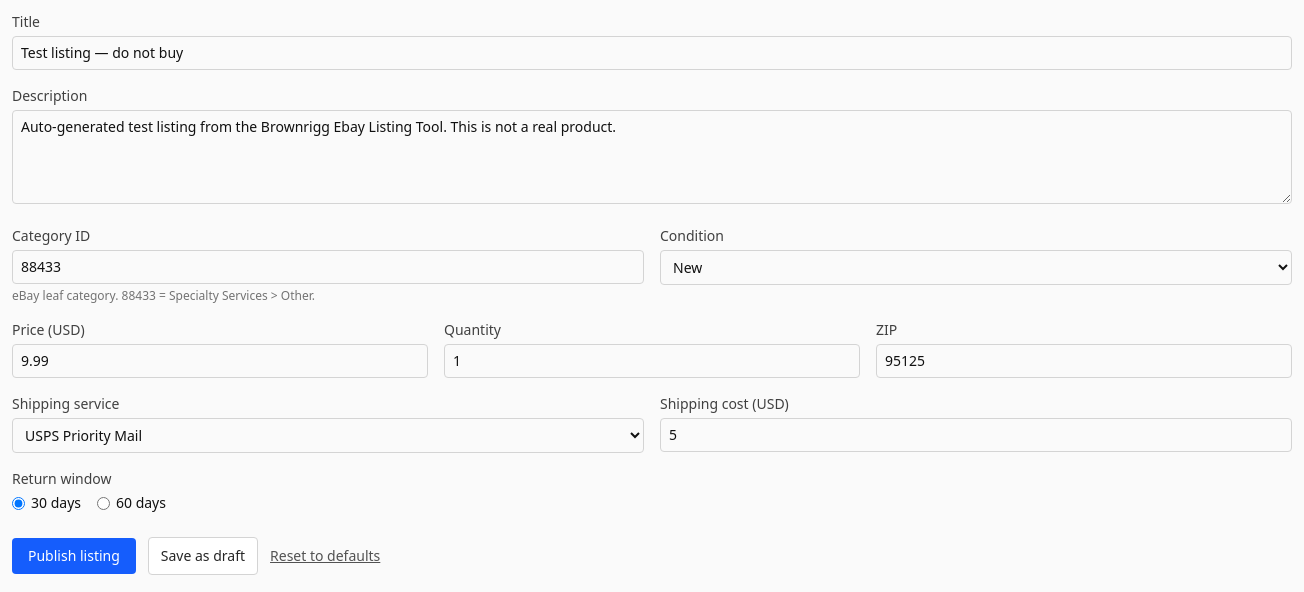
ListingForm › resets the form when "Reset to defaults" is clicked
The image size is (1304, 592).
Replace the text in the field labelled "Title" with "Edited title". click: (652, 53)
box: [12,36,1292,70]
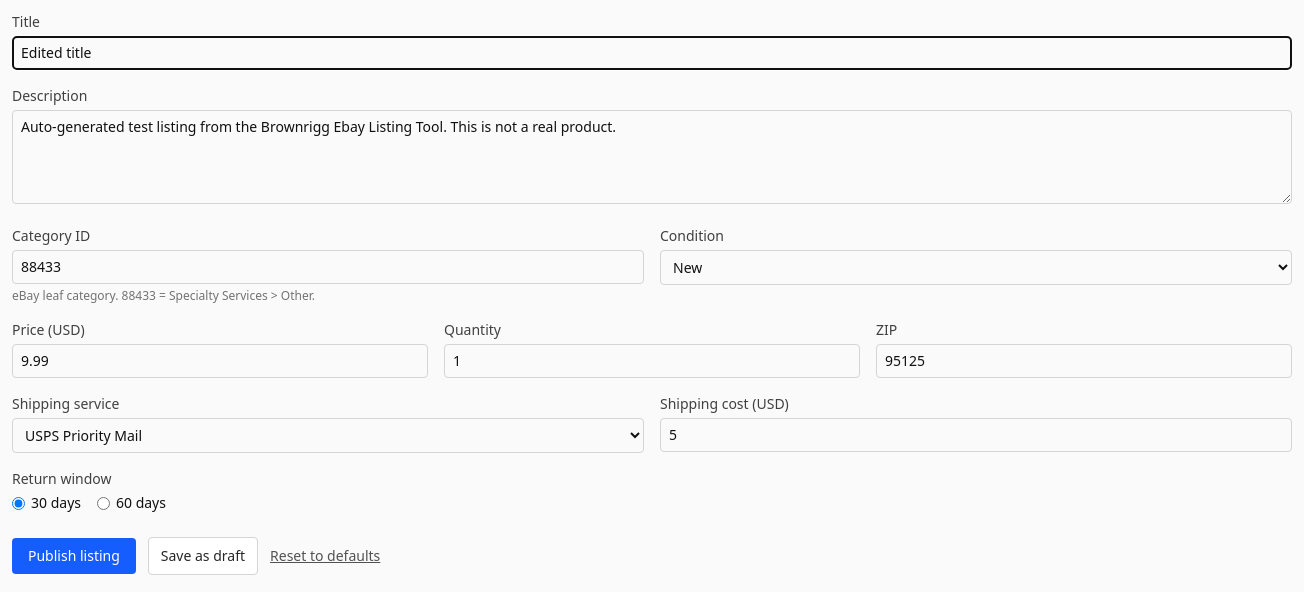
Click the button "Reset to defaults". click: (325, 556)
box: [270,546,380,566]
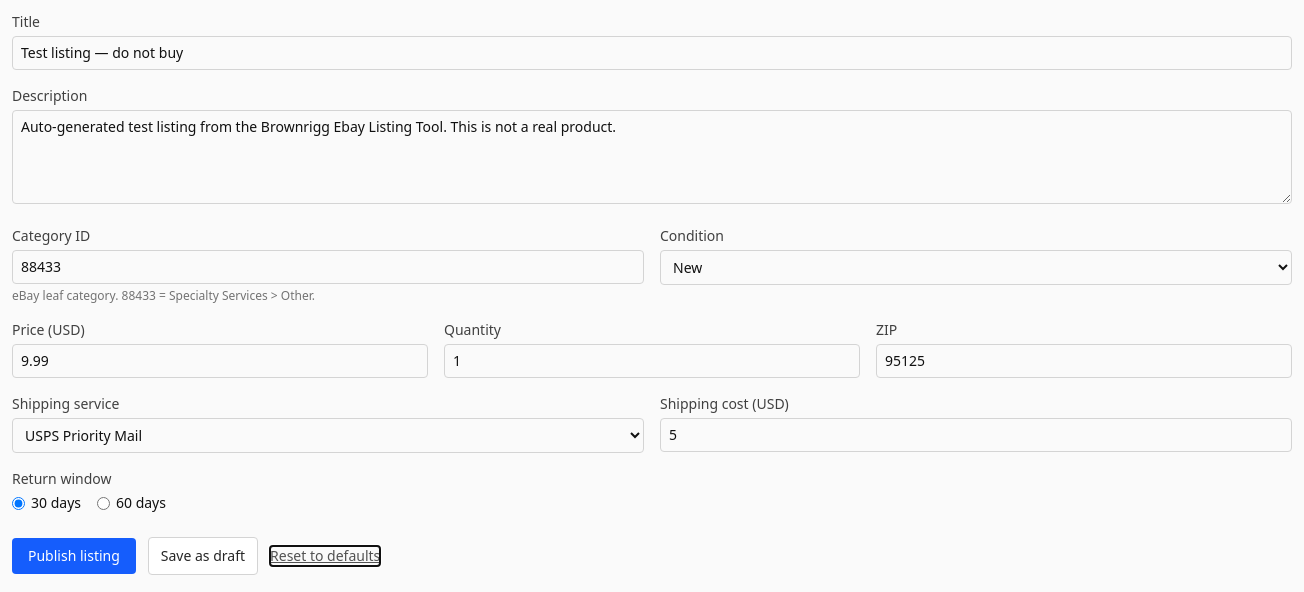
Now the field labelled "Title" holds "Test listing — do not buy", box [12,36,1292,70]
